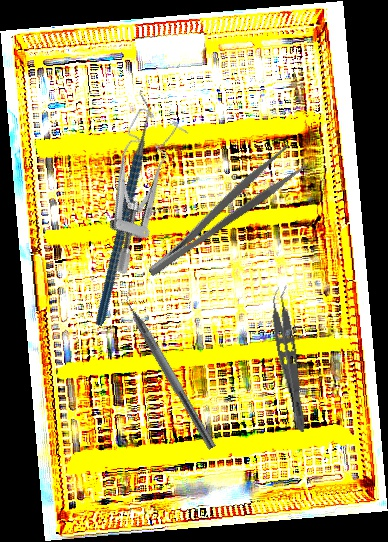Chopper: (22, 88, 220, 328), (115, 283, 227, 450)
Dressing Forceps: (135, 143, 307, 281)
Speculum: (66, 103, 203, 277)
Tissue Forceps: (264, 284, 319, 434)
